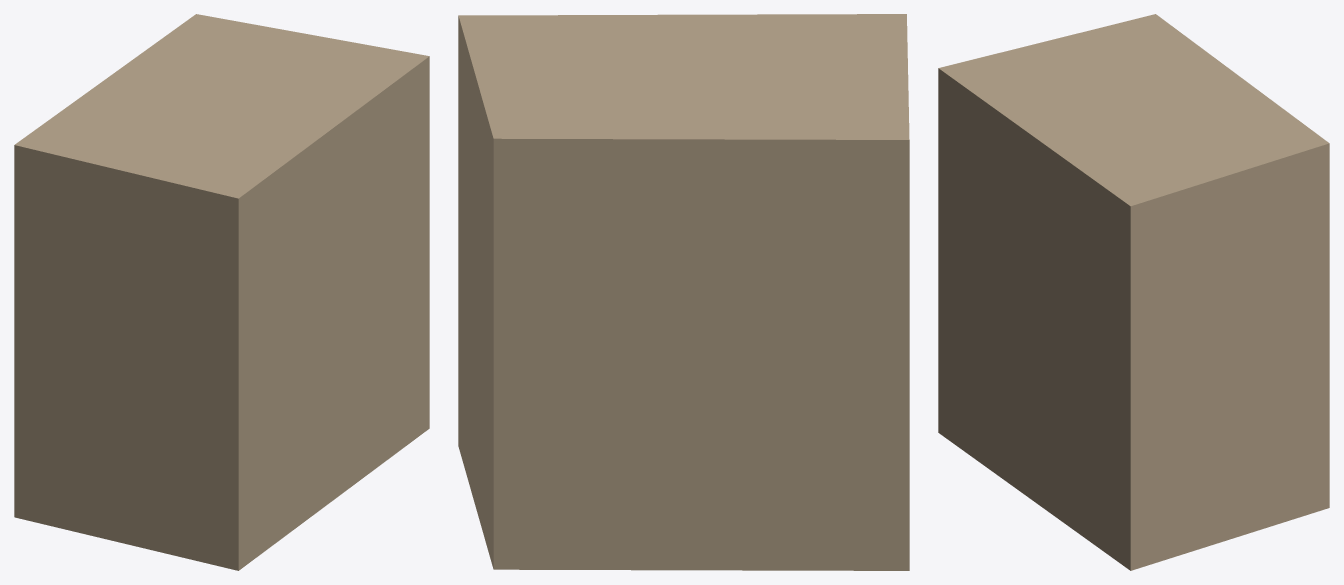
The model's file is bld_99003280.dae.
3 views of the same model, side by side, from view 1: azimuth 30°, elevation 25°; view 2: azimuth 150°, elevation 25°; view 3: azimuth 270°, elevation 25° (orthographic). The views are drawn at different scales.
Parts seen in each view (by area): view 1: John Alexander; view 2: John Alexander; view 3: John Alexander.
Part boxes in pixels (left/top/right/bottom): John Alexander: left=14, top=14, right=429, bottom=570; John Alexander: left=458, top=14, right=909, bottom=570; John Alexander: left=938, top=14, right=1329, bottom=570.
Size of the model in its own units: 9.05 by 7.78 by 8.
